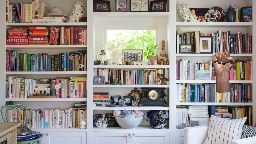Pugno: (210, 50, 236, 74)
